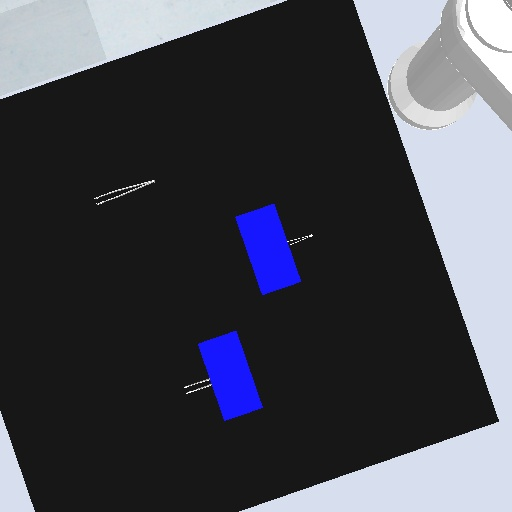pinza: (91, 177, 159, 207), (181, 377, 215, 396), (285, 232, 315, 248)
